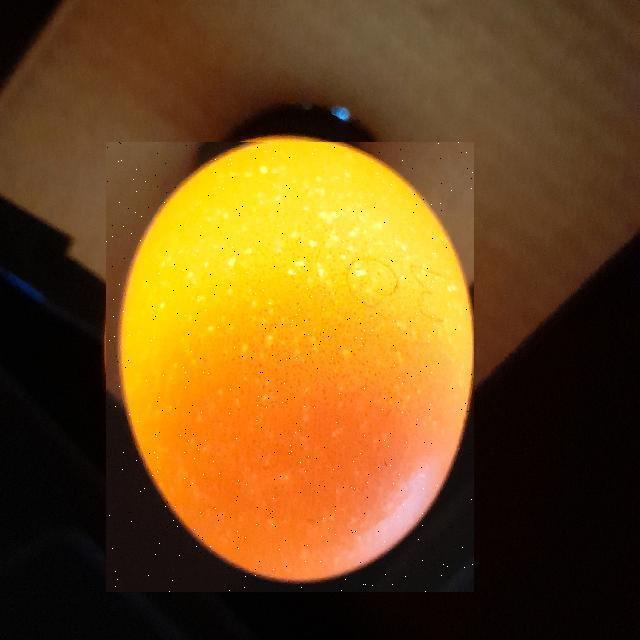A - Good: (110, 139, 477, 586)
